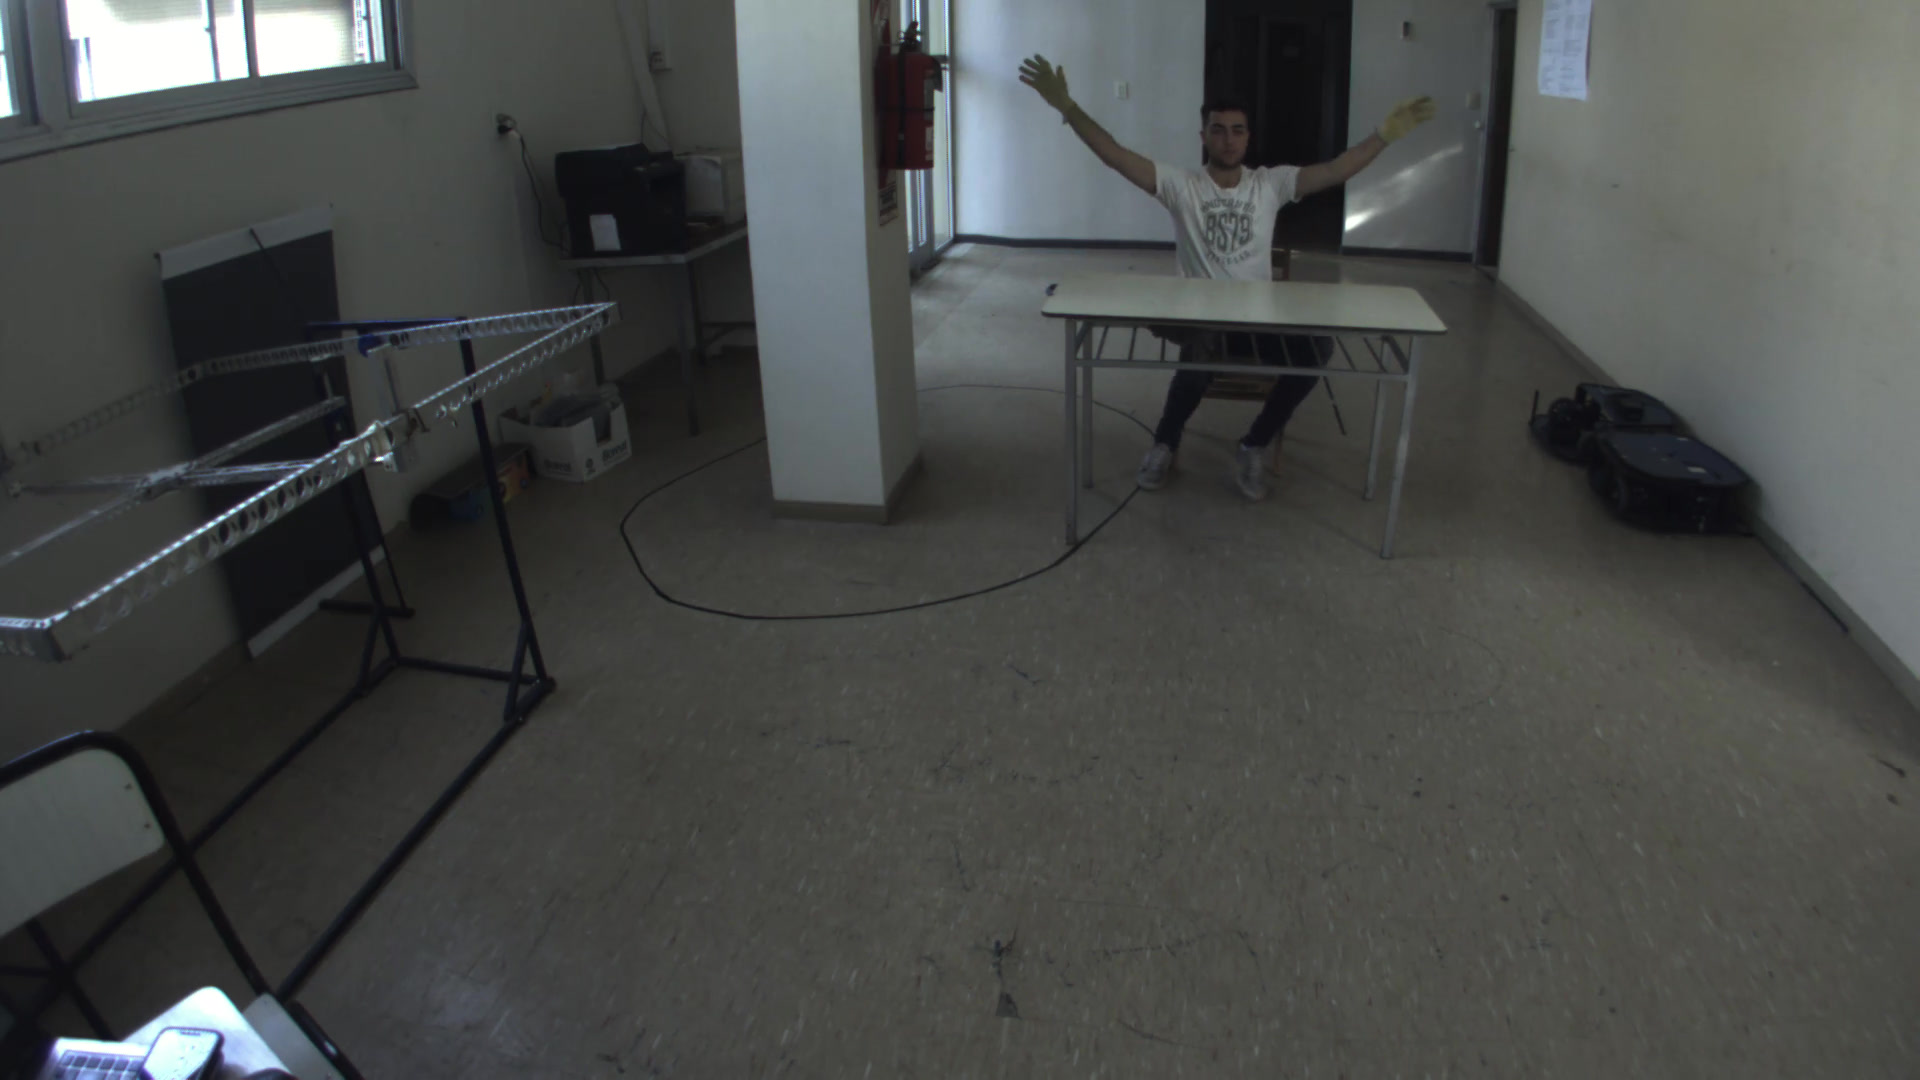hand: (1017, 51, 1095, 127), (1370, 92, 1439, 148)
